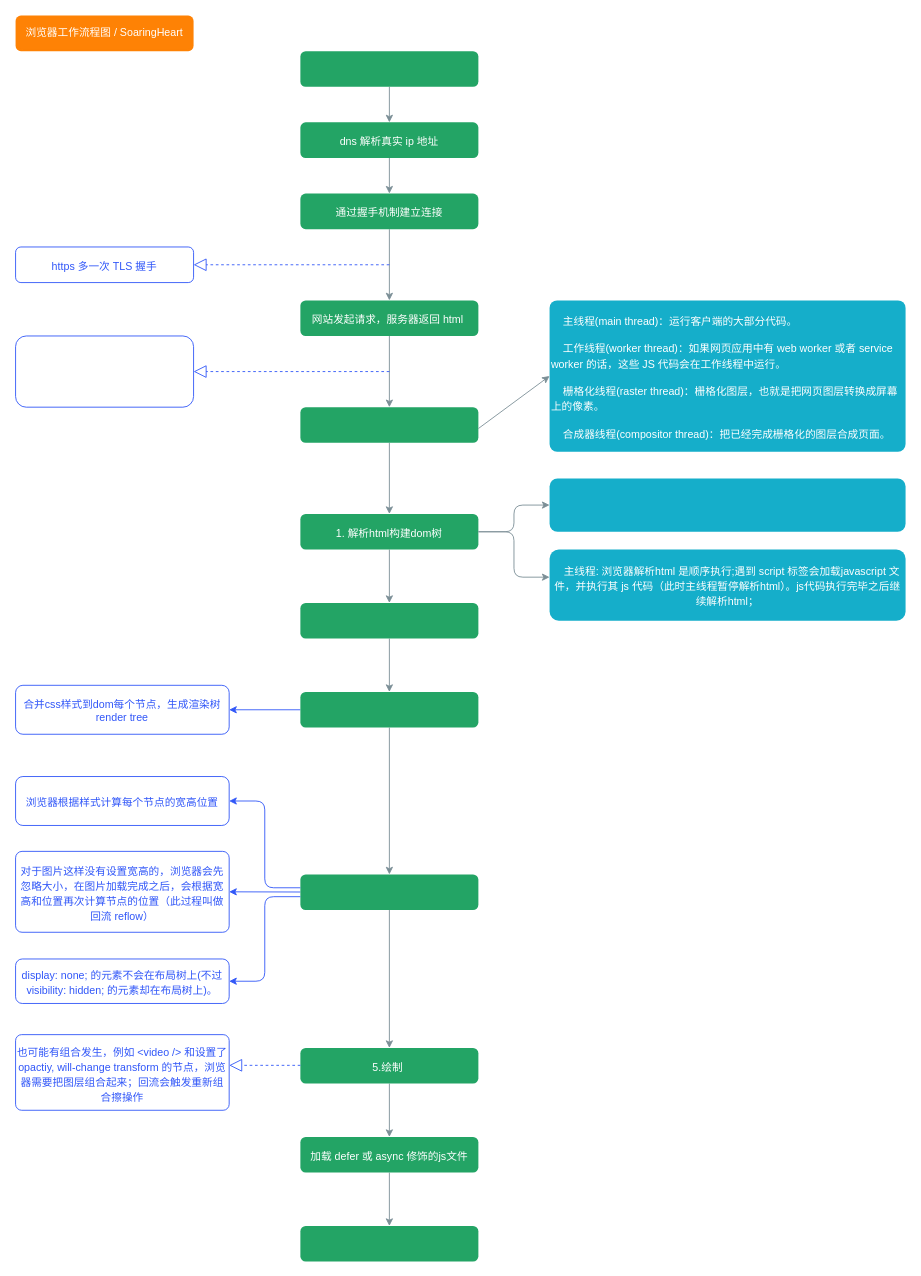
Some shapes in this 921 by 1276 pixel diagram are drawn without their labels. Here are the shapes that lost their labels. From the top down, the box of each, then its label:
(300, 51, 478, 86): 输入网址
(15, 335, 194, 407): 基于慢启动（Slow Start），是传输控制协议（TCP）使用的一种阻塞控制机制。首先返回14kb；
(300, 407, 478, 442): 收到html之后，开始渲染网页, 五步统称关键渲染路径：
(549, 478, 905, 531): 预扫描线程（ preload scanner) 扫描 html 代码，提前将图像，css、字体下载 ；
(300, 603, 478, 638): 2. 构建cssom树
(300, 692, 478, 727): 3.合并dom和cssom
(300, 874, 478, 910): 4.布局
(300, 1226, 478, 1261): 整个网页加载完成
